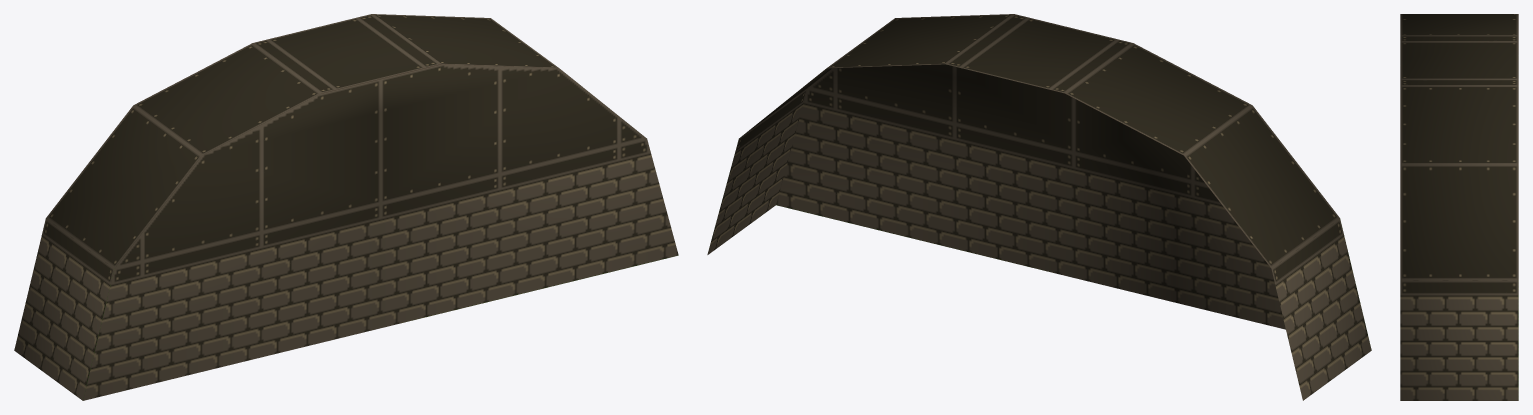
File: Roof02.fbx
The picture shows the model from 3 angles, left to right: view 1: azimuth 30°, elevation 25°; view 2: azimuth 150°, elevation 25°; view 3: azimuth 270°, elevation 25°; orthographic projection. The views are drawn at different scales.
Visible parts, largest first — view 1: Roof02; view 2: Roof02; view 3: Roof02.
Part boxes in pixels (box(x1,y1,x2,y2)): Roof02: box(14, 14, 678, 400); Roof02: box(707, 14, 1371, 400); Roof02: box(1400, 14, 1518, 400).
Size of the model in its own units: 1000 by 400 by 200.
